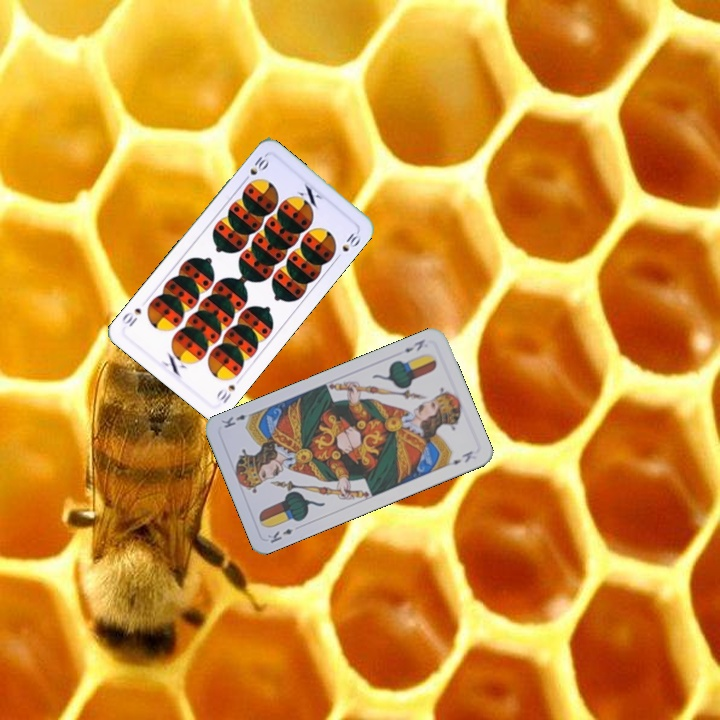EK: (263, 524, 296, 546), (400, 335, 427, 355)
S10: (239, 151, 271, 185), (212, 381, 238, 406)
